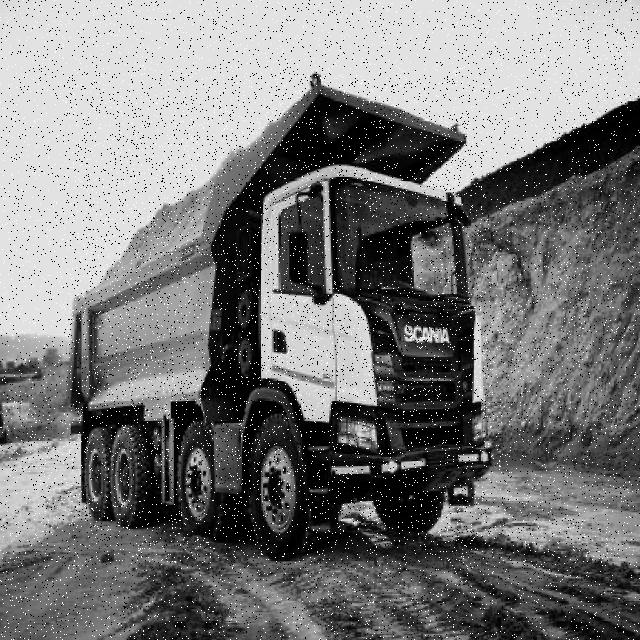Box Truck: (67, 71, 493, 563)
